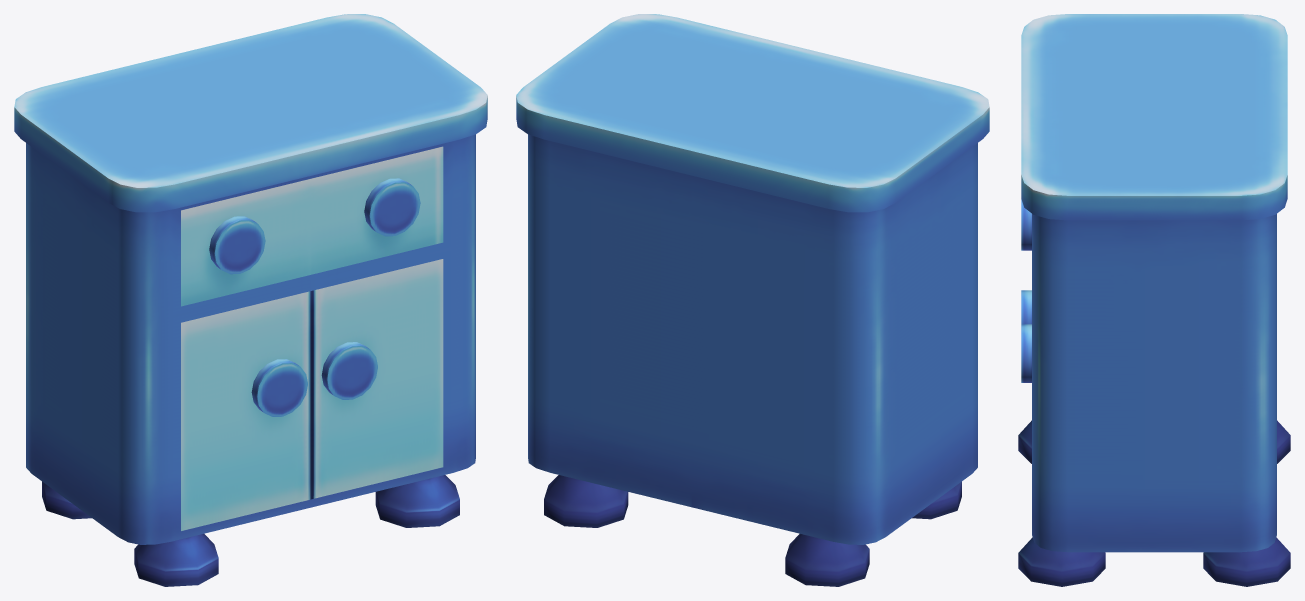
File: BlueCabinet_HD.fbx
3 views of the same model, side by side, from view 1: azimuth 30°, elevation 25°; view 2: azimuth 150°, elevation 25°; view 3: azimuth 270°, elevation 25° (orthographic).
Visible parts, largest first — view 1: BlueCabinet; view 2: BlueCabinet; view 3: BlueCabinet.
Part boxes in pixels (bbox=[...]): BlueCabinet: bbox=[14, 14, 487, 586]; BlueCabinet: bbox=[516, 14, 989, 586]; BlueCabinet: bbox=[1018, 14, 1290, 586].
Size of the model in its own units: 0.9518 by 0.9878 by 0.6016.
